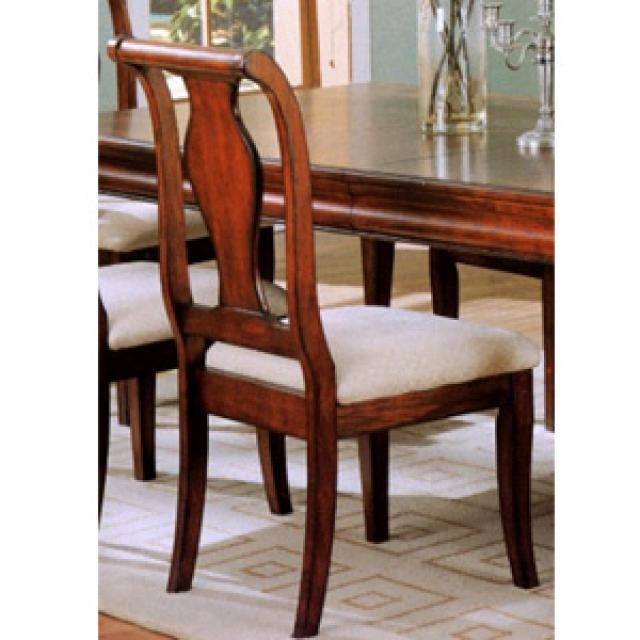chair: (105, 34, 546, 640)
